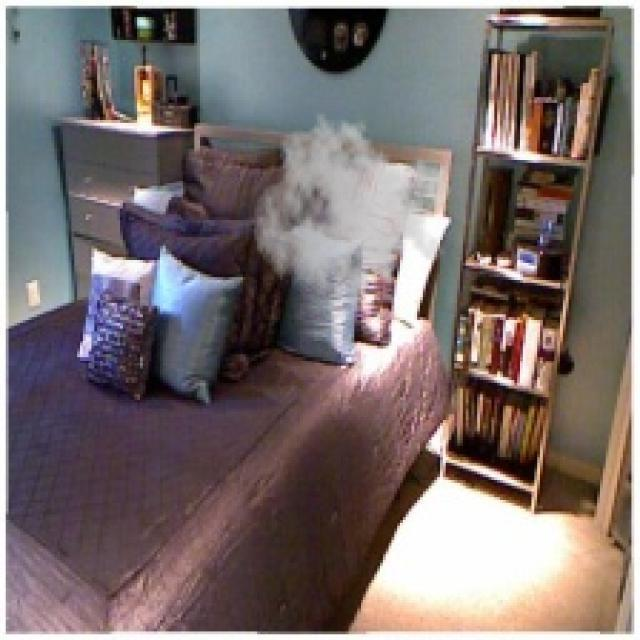Smoke: (252, 111, 452, 320)
